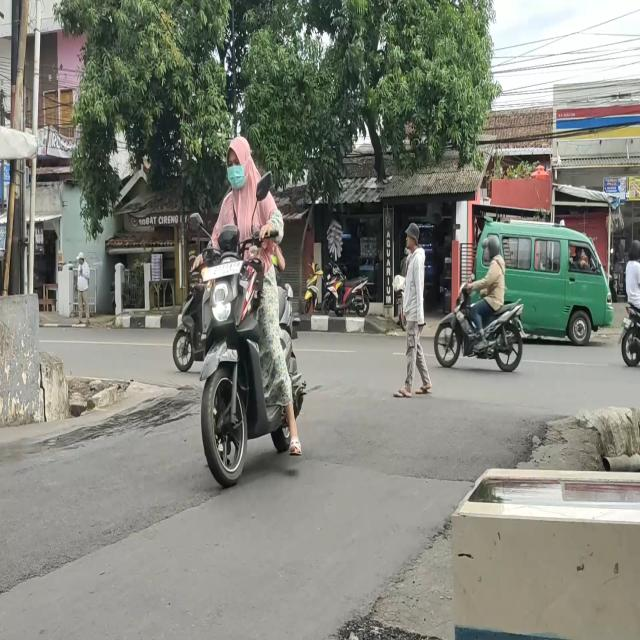helmet: (481, 233, 503, 265)
no-helmet: (225, 133, 252, 191), (626, 241, 640, 261)
